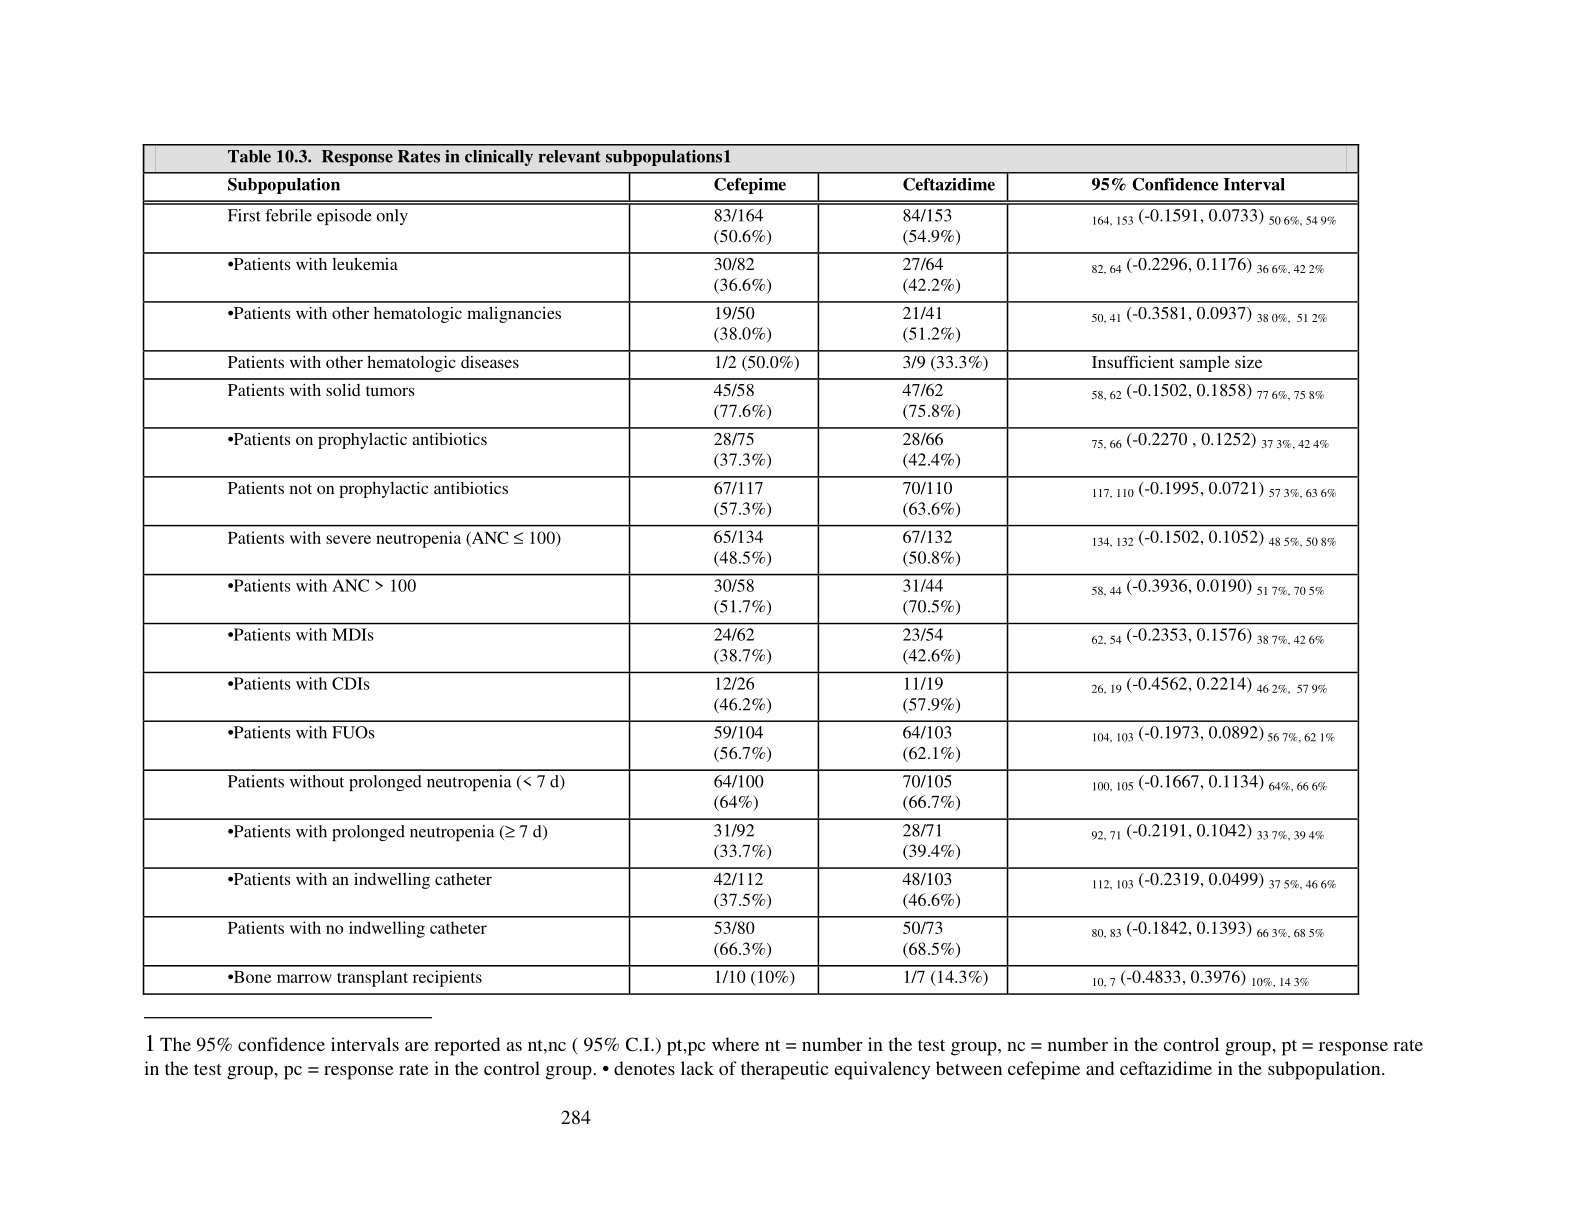merged_cells: (141, 143, 1362, 996)
